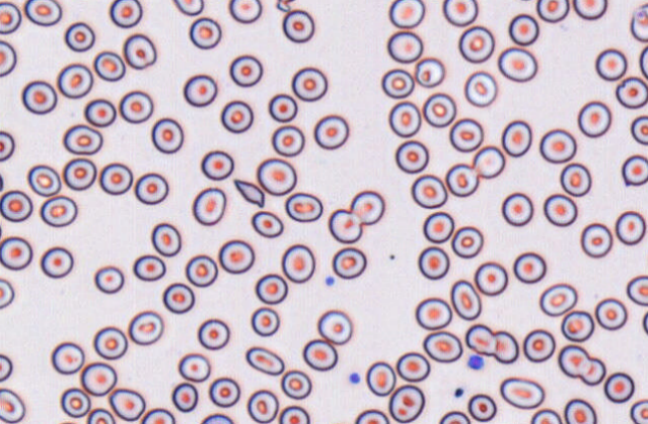PLT: (467, 354, 485, 371), (349, 372, 361, 386), (325, 275, 336, 287)
RBC: (256, 157, 297, 195), (499, 376, 544, 409), (388, 384, 425, 423), (497, 46, 537, 82), (458, 25, 494, 63), (281, 243, 315, 283), (192, 186, 226, 225), (422, 330, 462, 363), (57, 62, 93, 98), (313, 113, 349, 149), (80, 361, 117, 396), (539, 128, 576, 163), (539, 282, 577, 316), (62, 123, 102, 155), (450, 279, 481, 320), (218, 239, 254, 274), (21, 79, 57, 114), (291, 66, 327, 101), (108, 387, 145, 421), (410, 174, 447, 208), (463, 70, 497, 107), (577, 100, 611, 137), (414, 297, 452, 330), (39, 194, 77, 227), (349, 189, 384, 224), (317, 309, 352, 344), (128, 310, 163, 345), (388, 100, 421, 137), (386, 30, 423, 63), (284, 191, 323, 222), (328, 208, 362, 243), (93, 325, 127, 360), (394, 139, 429, 173), (422, 92, 456, 127), (449, 117, 483, 152), (123, 33, 156, 69), (501, 119, 532, 157), (445, 163, 479, 197), (474, 261, 508, 295), (183, 73, 217, 107), (0, 235, 33, 270), (302, 338, 337, 371), (331, 246, 366, 279), (118, 90, 153, 123), (151, 117, 183, 153), (580, 222, 612, 258), (245, 346, 284, 375), (557, 344, 590, 378), (522, 328, 555, 362), (246, 389, 279, 423), (62, 157, 96, 190), (99, 162, 133, 195), (50, 341, 84, 374), (543, 193, 577, 226), (220, 99, 253, 133), (229, 54, 263, 87), (594, 47, 627, 81), (282, 8, 314, 43), (365, 360, 396, 396), (185, 254, 218, 287), (0, 189, 33, 222), (472, 145, 505, 178), (615, 76, 648, 109), (594, 297, 627, 330), (188, 16, 221, 49), (134, 172, 168, 204), (560, 310, 594, 342), (417, 245, 449, 279), (559, 162, 591, 196), (27, 164, 61, 196), (512, 251, 546, 283), (501, 192, 533, 226), (395, 351, 430, 382), (615, 210, 646, 245), (162, 282, 195, 314), (451, 225, 483, 258), (40, 246, 73, 278), (271, 124, 304, 156), (254, 273, 288, 304), (200, 149, 234, 180), (388, 0, 425, 28), (603, 371, 635, 403), (197, 318, 229, 350), (422, 211, 454, 243), (151, 222, 181, 256), (465, 323, 496, 355), (208, 376, 240, 407), (93, 50, 125, 81), (59, 387, 91, 418), (508, 13, 539, 45), (177, 352, 210, 382), (381, 68, 414, 98), (24, 0, 62, 26), (414, 56, 445, 87), (64, 21, 95, 52), (83, 98, 116, 127), (442, 0, 478, 26), (280, 369, 311, 399), (250, 210, 283, 238), (109, 0, 142, 28), (132, 254, 166, 281), (0, 387, 25, 423), (250, 306, 280, 336), (93, 265, 124, 294), (492, 330, 519, 363), (621, 154, 648, 186), (268, 93, 297, 122), (578, 356, 606, 386), (563, 398, 596, 423), (467, 393, 496, 421), (171, 382, 198, 412), (228, 0, 262, 23), (536, 0, 569, 22), (630, 2, 648, 42), (572, 0, 607, 20), (0, 1, 21, 34), (626, 274, 648, 305), (0, 39, 16, 77), (139, 407, 175, 423), (278, 405, 310, 423), (630, 114, 648, 145), (354, 408, 389, 423), (629, 398, 648, 424), (530, 408, 562, 423), (172, 0, 204, 15), (86, 407, 115, 423), (0, 277, 14, 309), (0, 130, 14, 161), (438, 410, 470, 423), (0, 353, 12, 382), (200, 413, 234, 423), (639, 44, 648, 81), (642, 308, 648, 336), (327, 420, 353, 424), (55, 420, 79, 424), (0, 169, 4, 192), (0, 215, 3, 242), (645, 247, 648, 274), (509, 0, 538, 2)
Schistocyte: (233, 177, 266, 209), (275, 0, 294, 14)
